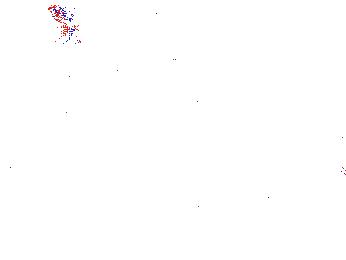red belly glassfish: (321, 162, 346, 182)
redtail glassfish: (105, 54, 182, 84), (46, 3, 86, 44), (151, 4, 173, 45)
